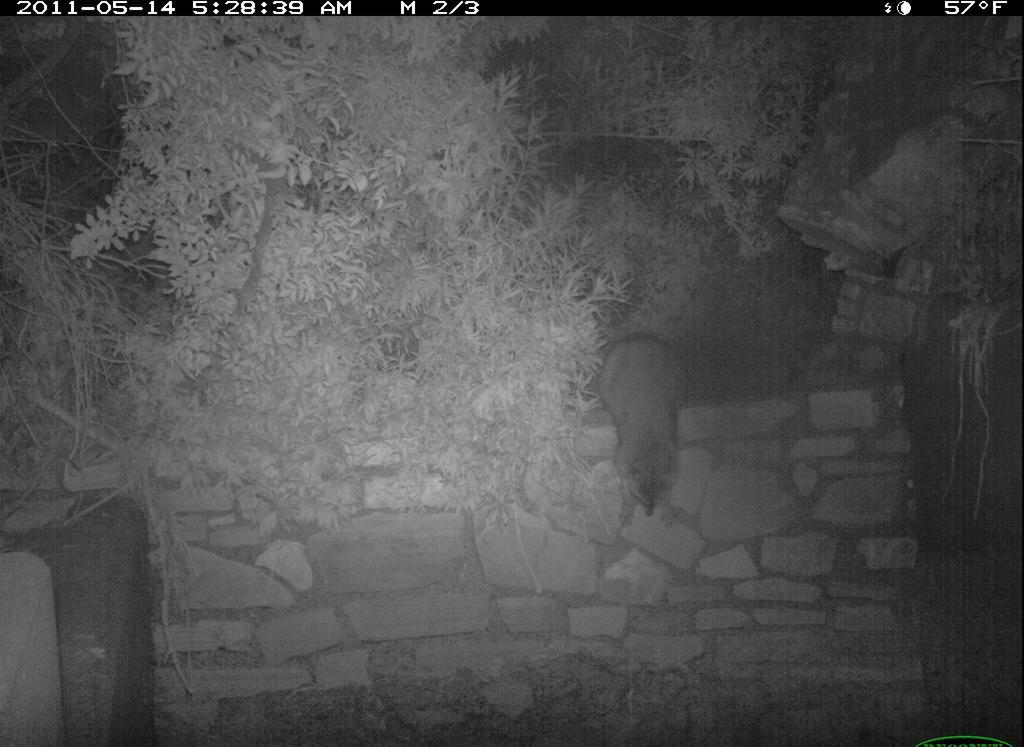raccoon: (597, 331, 701, 530)
